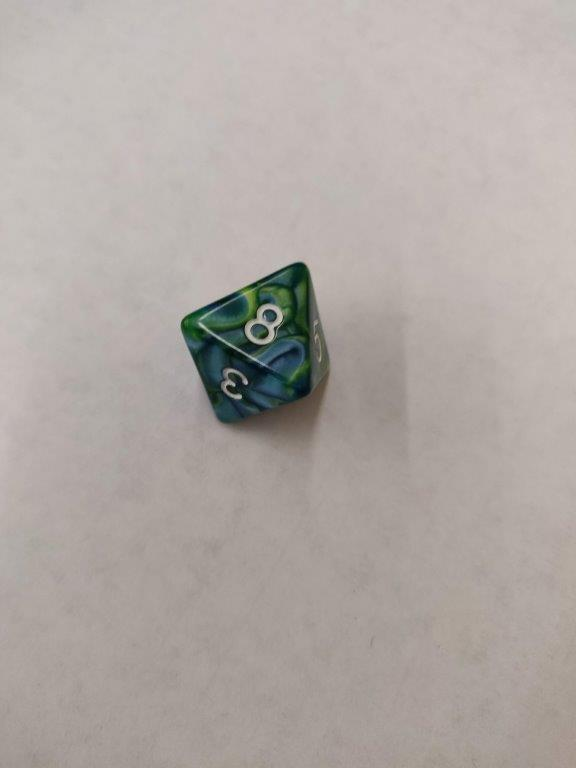d8-8: (178, 259, 334, 426)
